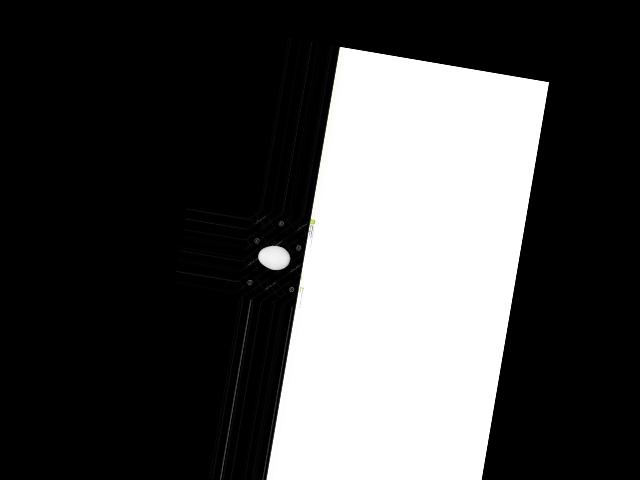egg: (256, 243, 292, 273)
